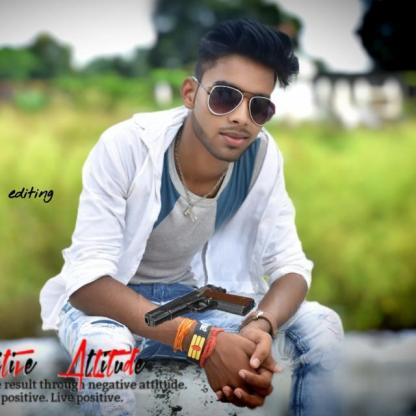handgun: (139, 281, 258, 331)
